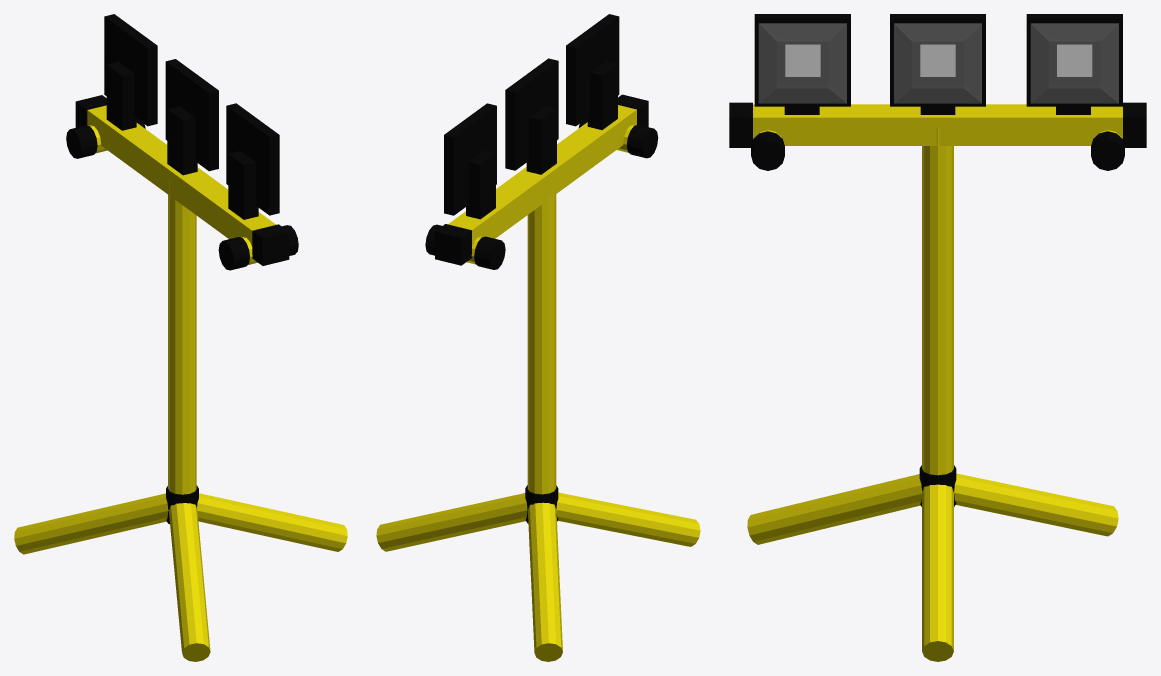
The model's file is Worklight.fbx.
3 renders of one model, left to right at view 1: azimuth 30°, elevation 25°; view 2: azimuth 150°, elevation 25°; view 3: azimuth 270°, elevation 25°, orthographic. The views are drawn at different scales.
Parts seen in each view (by area): view 1: Cylinder.001, Cylinder, Cube.002, Cube.007, Cube.006, Cube, Cube.010, Cube.009, Cube.011, Cube.004, Cylinder.007, Cylinder.008 (+1 smaller); view 2: Cylinder.001, Cylinder, Cube.002, Cube, Cube.006, Cube.007, Cube.011, Cube.009, Cube.010, Cube.003, Cylinder.008, Cylinder.007 (+1 smaller); view 3: Cylinder.001, Cube.002, Cylinder, Cube, Cube.007, Cube.006, Cube.001, Cube.005, Cube.008, Glow.002, Glow, Glow.001 (+4 smaller).
Boxes of the visible parts, box(x1,y1,x2,y2) form: Cylinder.001: box(14, 493, 347, 661); Cylinder: box(168, 180, 196, 494); Cube.002: box(87, 105, 275, 246); Cube.007: box(104, 14, 157, 126); Cube.006: box(165, 59, 218, 171); Cube: box(226, 103, 279, 215); Cube.010: box(106, 61, 136, 130); Cube.009: box(167, 106, 197, 175); Cube.011: box(228, 151, 258, 219); Cube.004: box(252, 224, 289, 265); Cylinder.007: box(66, 125, 97, 158); Cylinder.008: box(218, 237, 249, 270); Cylinder.001: box(376, 492, 700, 661); Cylinder: box(527, 179, 556, 494); Cube.002: box(448, 105, 636, 246); Cube: box(566, 14, 619, 126); Cube.006: box(505, 58, 558, 170); Cube.007: box(444, 103, 496, 215); Cube.011: box(587, 61, 617, 129); Cube.009: box(526, 106, 556, 174); Cube.010: box(466, 150, 495, 219); Cube.003: box(435, 224, 471, 265); Cylinder.008: box(626, 124, 658, 158); Cylinder.007: box(474, 236, 505, 269); Cylinder.001: box(747, 473, 1118, 661); Cube.002: box(753, 104, 1122, 145); Cylinder: box(922, 128, 953, 475); Cube: box(754, 14, 850, 106); Cube.007: box(1026, 14, 1122, 106); Cube.006: box(890, 14, 985, 106); Cube.001: box(759, 23, 846, 103); Cube.005: box(894, 23, 981, 103); Cube.008: box(1031, 23, 1118, 103); Glow.002: box(1057, 44, 1092, 76); Glow: box(785, 44, 820, 76); Glow.001: box(920, 44, 955, 76).
Size of the model in its own units: 368 by 701 by 466.
